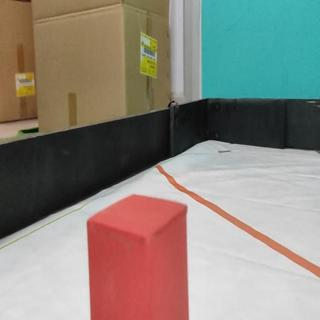redbox: (86, 194, 190, 320)
